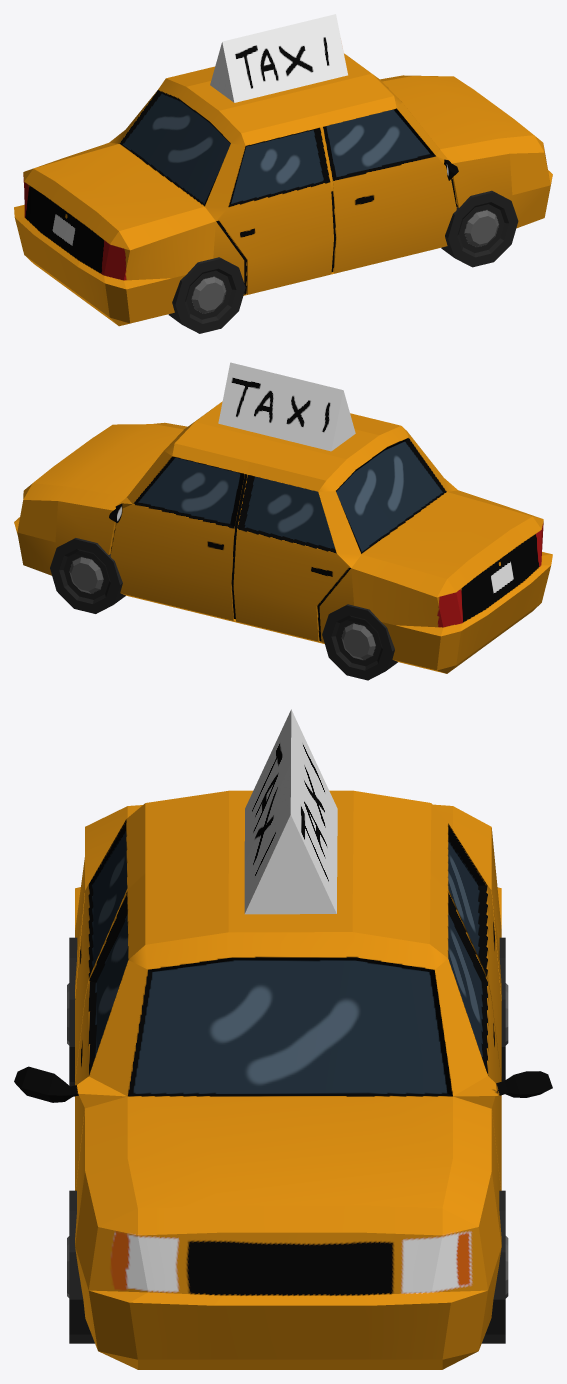
Rendered from SM_Taxi.fbx.
The picture shows the model from 3 angles, top to bottom: view 1: azimuth 30°, elevation 25°; view 2: azimuth 150°, elevation 25°; view 3: azimuth 270°, elevation 25°; orthographic projection. The views are drawn at different scales.
Visible parts, largest first — view 1: SM_TaxiChasis1; view 2: SM_TaxiChasis1; view 3: SM_TaxiChasis1.
Boxes of the visible parts, <box> form: SM_TaxiChasis1: <box>14,14,552,333</box>; SM_TaxiChasis1: <box>14,362,552,680</box>; SM_TaxiChasis1: <box>14,709,552,1369</box>.
Bounding box in the file's own units: 420 × 201 × 225.
